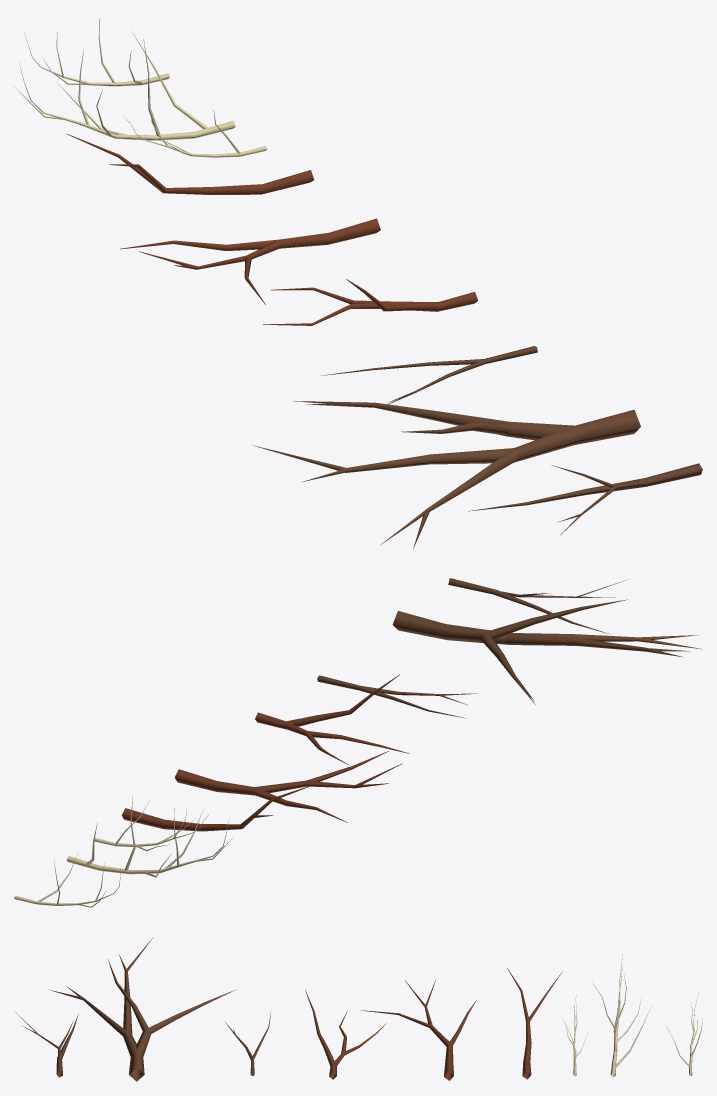
File: Branches.fbx
3 views of the same model, one above another, from view 1: azimuth 30°, elevation 25°; view 2: azimuth 150°, elevation 25°; view 3: azimuth 270°, elevation 25° (orthographic). The views are drawn at different scales.
Visible parts, largest first — view 1: Pin Oak Branch.002, Spruce Branch.002, Quaking Aspen Branch.002, Spruce Branch.001, Spruce Branch.003, Pin Oak Branch.003, Pin Oak Branch.001, Quaking Aspen Branch.001; view 2: Pin Oak Branch.002, Spruce Branch.002, Spruce Branch.003, Spruce Branch.001, Quaking Aspen Branch.002, Pin Oak Branch.003, Pin Oak Branch.001, Quaking Aspen Branch.001, Quaking Aspen Branch.003; view 3: Pin Oak Branch.002, Spruce Branch.002, Quaking Aspen Branch.002, Spruce Branch.003, Spruce Branch.001, Pin Oak Branch.003, Quaking Aspen Branch.001, Quaking Aspen Branch.003, Pin Oak Branch.001.
Boxes of the visible parts, x1,y1,x2,y2 form: Pin Oak Branch.002: [252, 401, 640, 549]; Spruce Branch.002: [120, 218, 380, 304]; Quaking Aspen Branch.002: [14, 30, 235, 140]; Spruce Branch.001: [67, 134, 314, 194]; Spruce Branch.003: [263, 279, 477, 325]; Pin Oak Branch.003: [468, 463, 702, 535]; Pin Oak Branch.001: [320, 346, 537, 404]; Quaking Aspen Branch.001: [24, 18, 169, 86]; Pin Oak Branch.002: [392, 599, 702, 704]; Spruce Branch.002: [174, 751, 402, 822]; Spruce Branch.003: [255, 674, 409, 765]; Spruce Branch.001: [121, 784, 314, 831]; Quaking Aspen Branch.002: [66, 796, 232, 877]; Pin Oak Branch.003: [448, 578, 627, 634]; Pin Oak Branch.001: [317, 675, 477, 718]; Quaking Aspen Branch.001: [14, 852, 120, 907]; Quaking Aspen Branch.003: [94, 798, 208, 851]; Pin Oak Branch.002: [48, 937, 236, 1081]; Spruce Branch.002: [361, 979, 476, 1080]; Quaking Aspen Branch.002: [593, 954, 652, 1077]; Spruce Branch.003: [305, 989, 386, 1079]; Spruce Branch.001: [507, 968, 562, 1079]; Pin Oak Branch.003: [15, 1012, 78, 1077]; Quaking Aspen Branch.001: [666, 992, 702, 1076]; Quaking Aspen Branch.003: [562, 996, 587, 1076]; Pin Oak Branch.001: [224, 1011, 271, 1075].
Size of the model in its own units: 662 by 202 by 1787.
